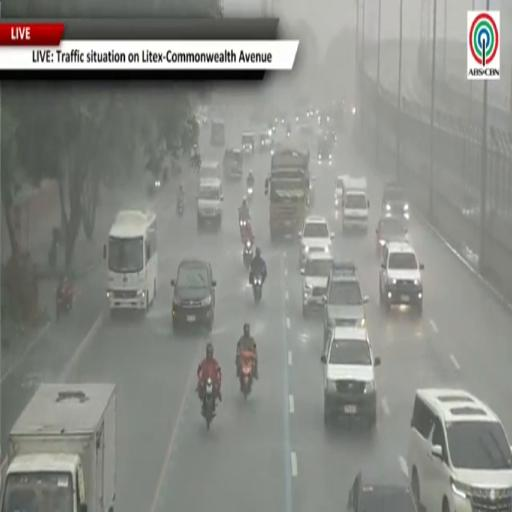bus: (104, 211, 157, 311)
car: (407, 389, 511, 511), (321, 327, 380, 427), (379, 243, 424, 315), (323, 262, 368, 334), (171, 260, 216, 331), (347, 472, 417, 511), (301, 252, 333, 316), (298, 216, 333, 268), (197, 179, 223, 230), (376, 217, 408, 255), (382, 183, 410, 220), (223, 149, 242, 180), (335, 175, 350, 210), (318, 135, 333, 164), (210, 119, 225, 147), (241, 132, 255, 156), (259, 130, 272, 152)
motorcycle: (240, 351, 254, 399), (202, 378, 215, 429), (56, 286, 74, 321), (243, 240, 253, 269), (253, 276, 263, 303), (240, 218, 250, 242), (177, 199, 184, 216), (247, 186, 253, 205), (287, 131, 291, 137)
truck: (1, 383, 116, 511), (265, 148, 310, 241), (342, 178, 369, 232)
